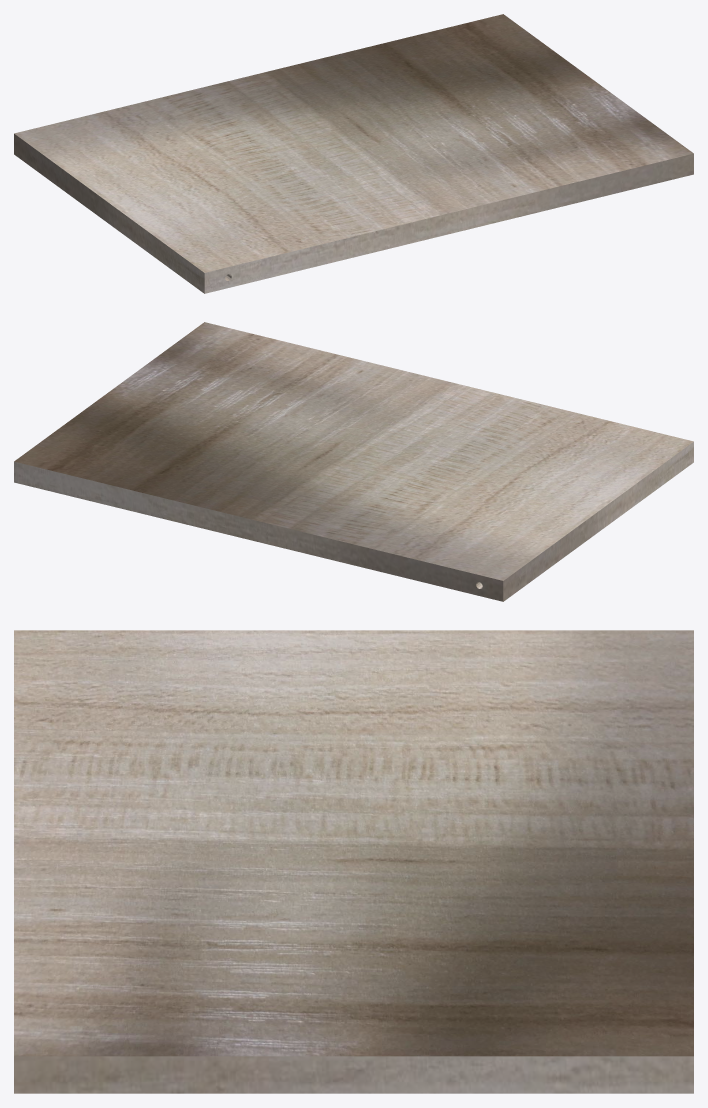
Rendered from Link2-texture.obj.
The picture shows the model from 3 angles, top to bottom: view 1: azimuth 30°, elevation 25°; view 2: azimuth 150°, elevation 25°; view 3: azimuth 270°, elevation 25°; orthographic projection. The views are drawn at different scales.
Parts seen in each view (by area): view 1: Link2.002; view 2: Link2.002; view 3: Link2.002.
Part boxes in pixels (<box>): Link2.002: <box>14,14,693,293</box>; Link2.002: <box>14,322,693,601</box>; Link2.002: <box>14,630,693,1093</box>.
Bounding box in the file's own units: 0.367 × 0.015 × 0.2475.
1 material, 1 textured.
